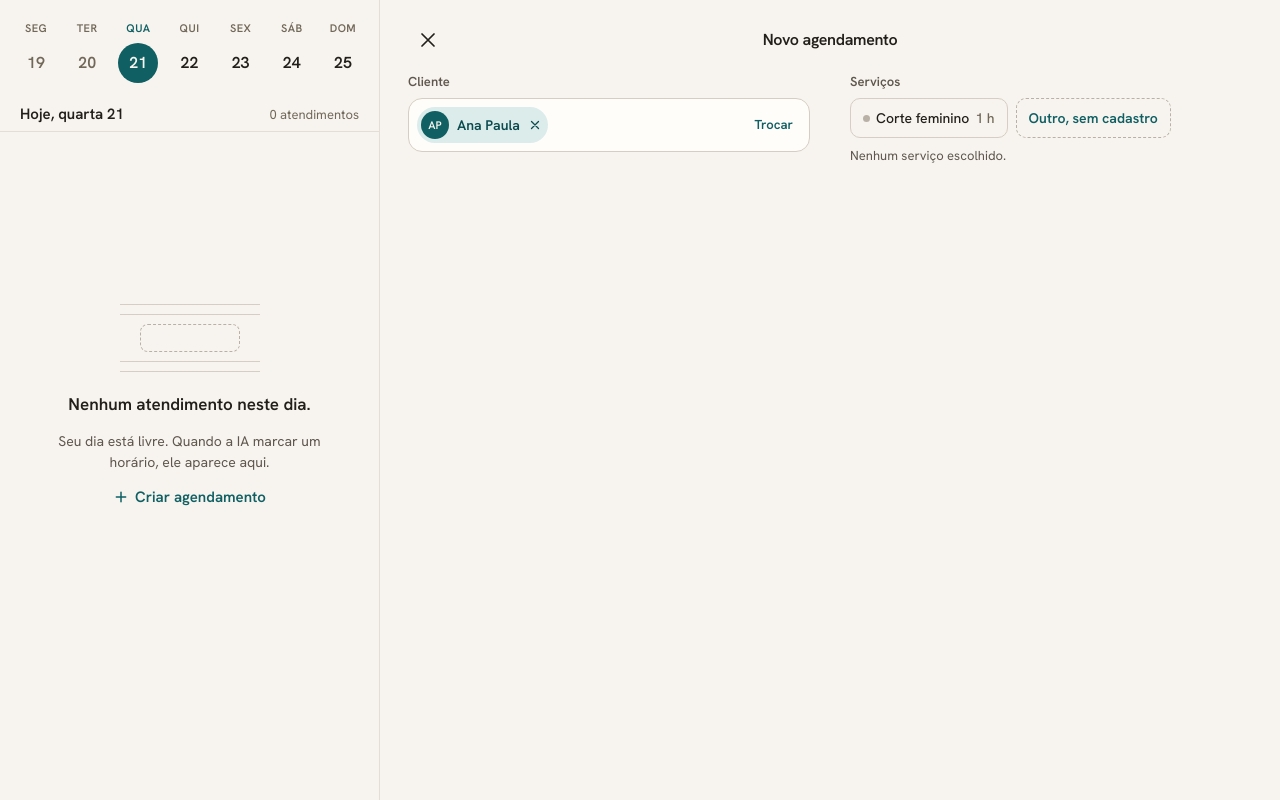
Test: criação: o envelope real chega às telas já aceitas › a recusa do hold abre o conflito do Goal119
What coordinates should you click on to do the following:
click the checkbox labelled "Corte feminino 1 h"
I would click on:
 (929, 118)
Its box is [850,98,1008,138].
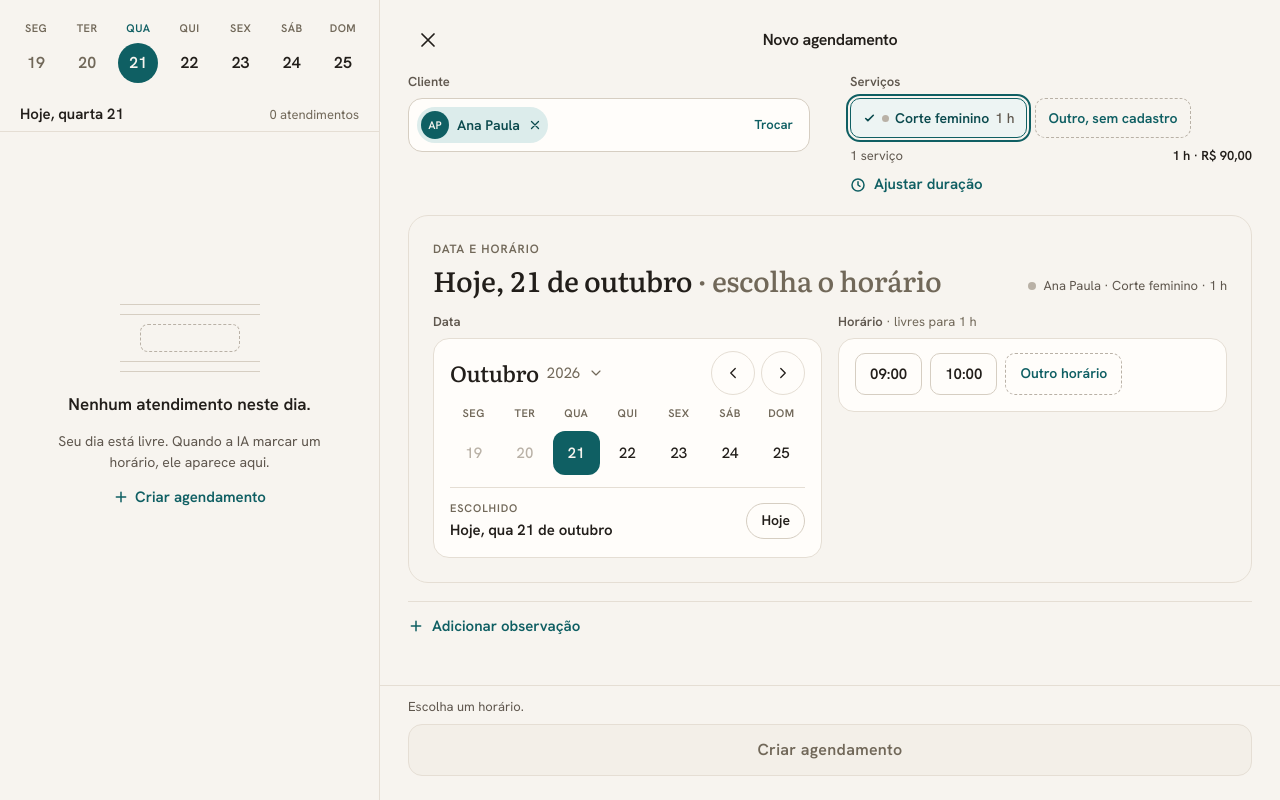
Expected: the radio button labelled "09:00" is shown
What coordinates should you click on to do the following:
click the radio button labelled "09:00"
I would click on:
 (889, 374)
Its box is [855,353,922,395].
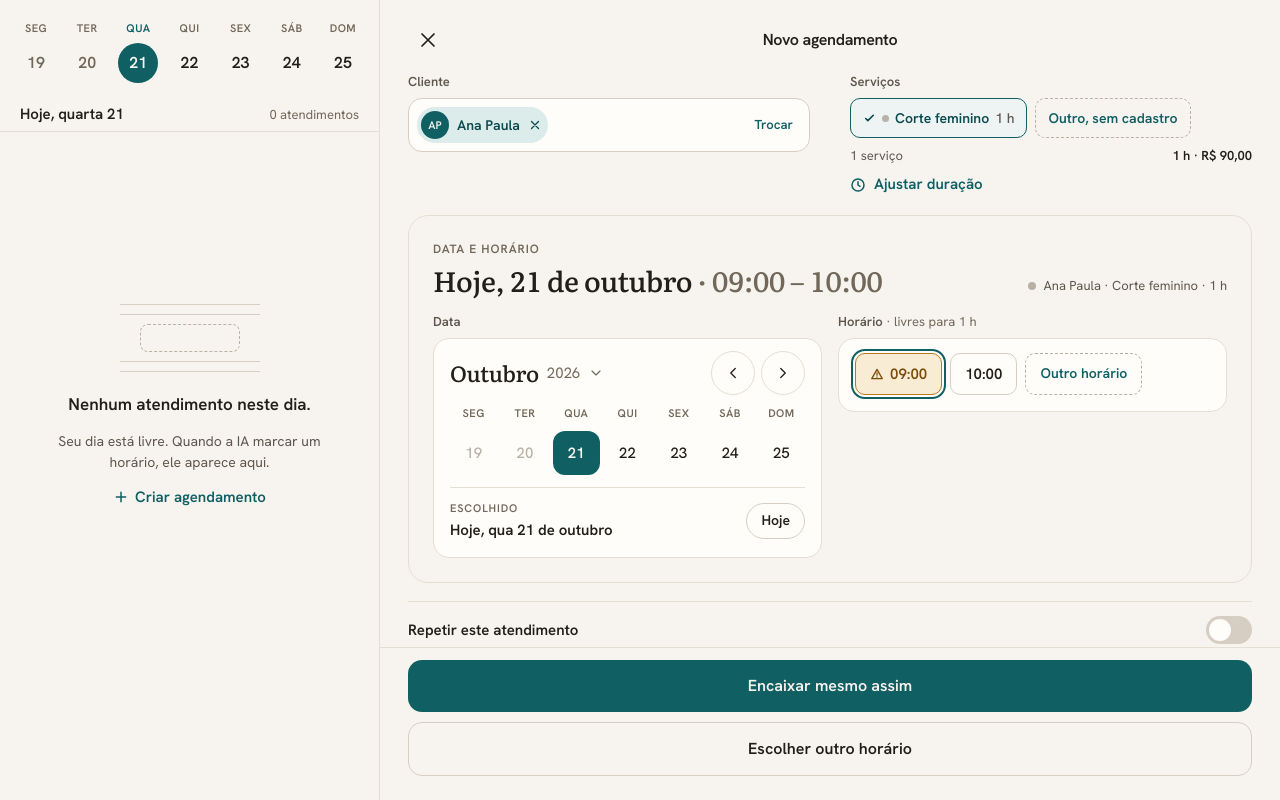
Expected: the button "Encaixar mesmo assim" is enabled, [408,660,1252,712]
Expected: the button "Escolher outro horário" is shown, [408,722,1252,776]
